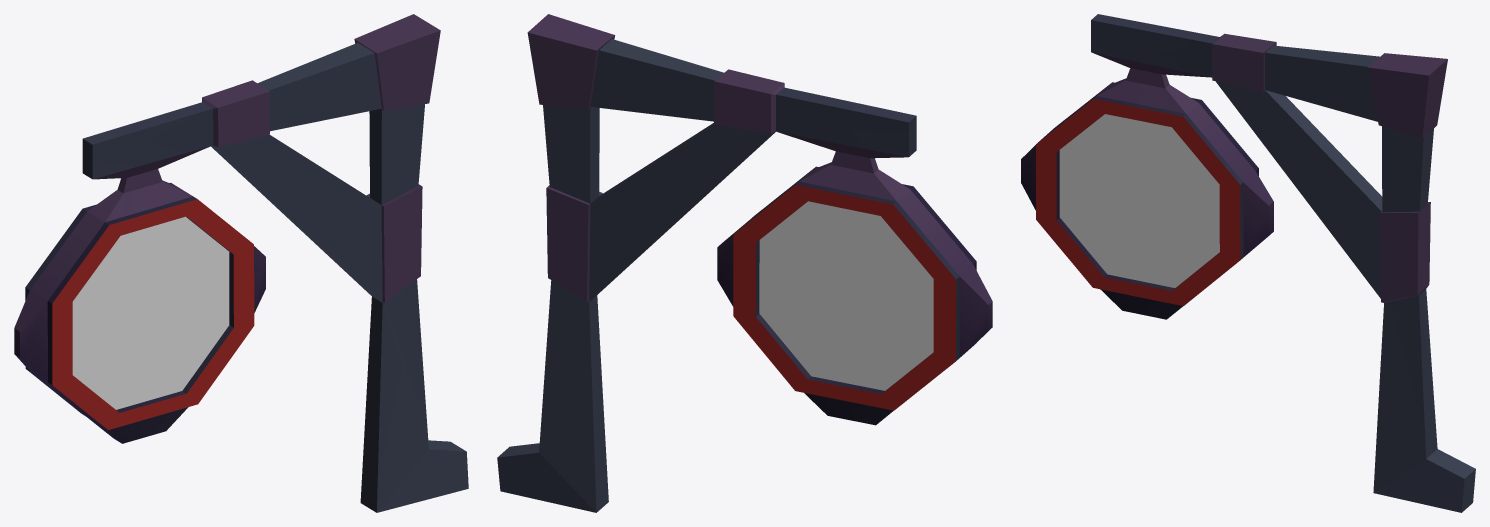
File: Prop_RoundSign.fbx
3 views of the same model, side by side, from view 1: azimuth 30°, elevation 25°; view 2: azimuth 150°, elevation 25°; view 3: azimuth 330°, elevation 25° (orthographic). The views are drawn at different scales.
Visible parts, largest first — view 1: Neon Sign; view 2: Neon Sign; view 3: Neon Sign.
Boxes of the visible parts, x1,y1,x2,y2 form: Neon Sign: [14, 14, 468, 512]; Neon Sign: [497, 14, 992, 512]; Neon Sign: [1021, 14, 1475, 512].
Size of the model in its own units: 138 by 133 by 21.81.
